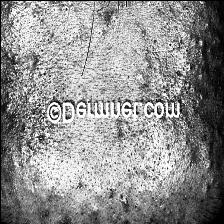Non-Cancerous Skin Condition: (112, 0, 224, 218), (0, 0, 59, 210)
